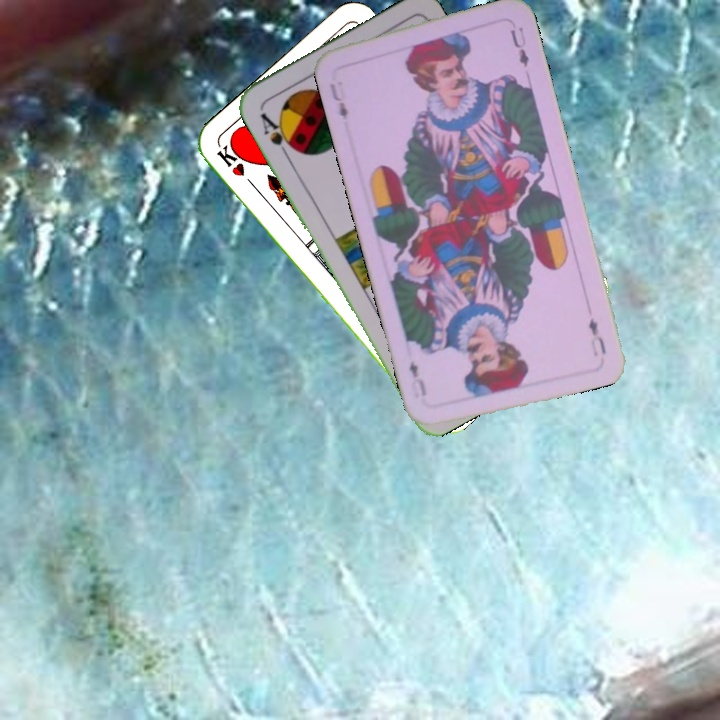EU: (584, 313, 609, 359), (325, 79, 350, 122)
HK: (212, 140, 259, 192)
SA: (256, 108, 299, 160)
